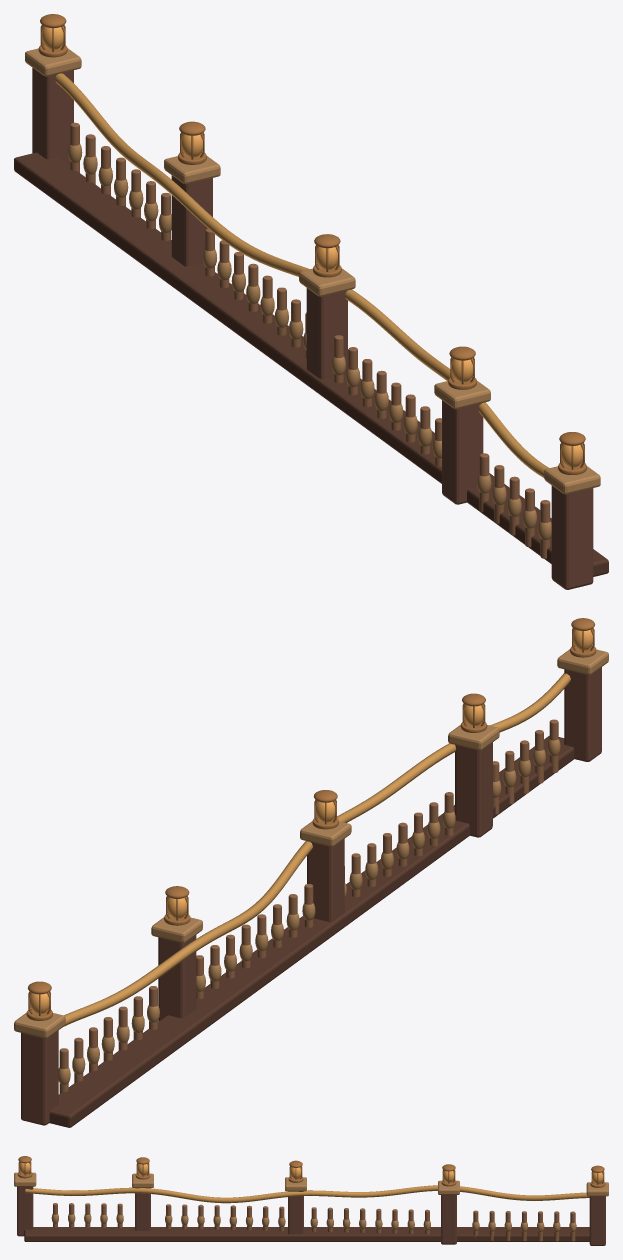
File: SM_Hub_BalconyRail.fbx
3 renders of one model, top to bottom at view 1: azimuth 30°, elevation 25°; view 2: azimuth 150°, elevation 25°; view 3: azimuth 270°, elevation 25°, orthographic. The views are drawn at different scales.
Parts seen in each view (by area): view 1: Carved baluster post.005_Baked; view 2: Carved baluster post.005_Baked; view 3: Carved baluster post.005_Baked.
Boxes of the visible parts, left/top/right/bottom form: Carved baluster post.005_Baked: left=14, top=14, right=608, bottom=589; Carved baluster post.005_Baked: left=14, top=618, right=608, bottom=1127; Carved baluster post.005_Baked: left=14, top=1156, right=608, bottom=1245.
Size of the model in its own units: 66.97 by 883 by 124.
